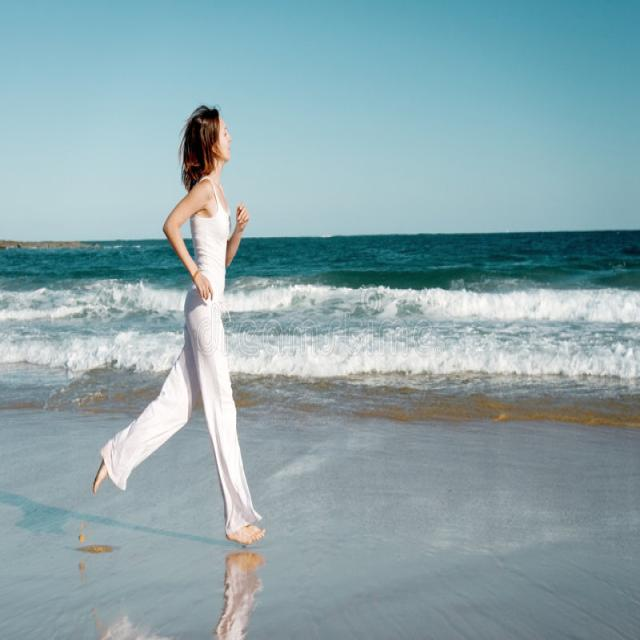running: (90, 102, 270, 547)
